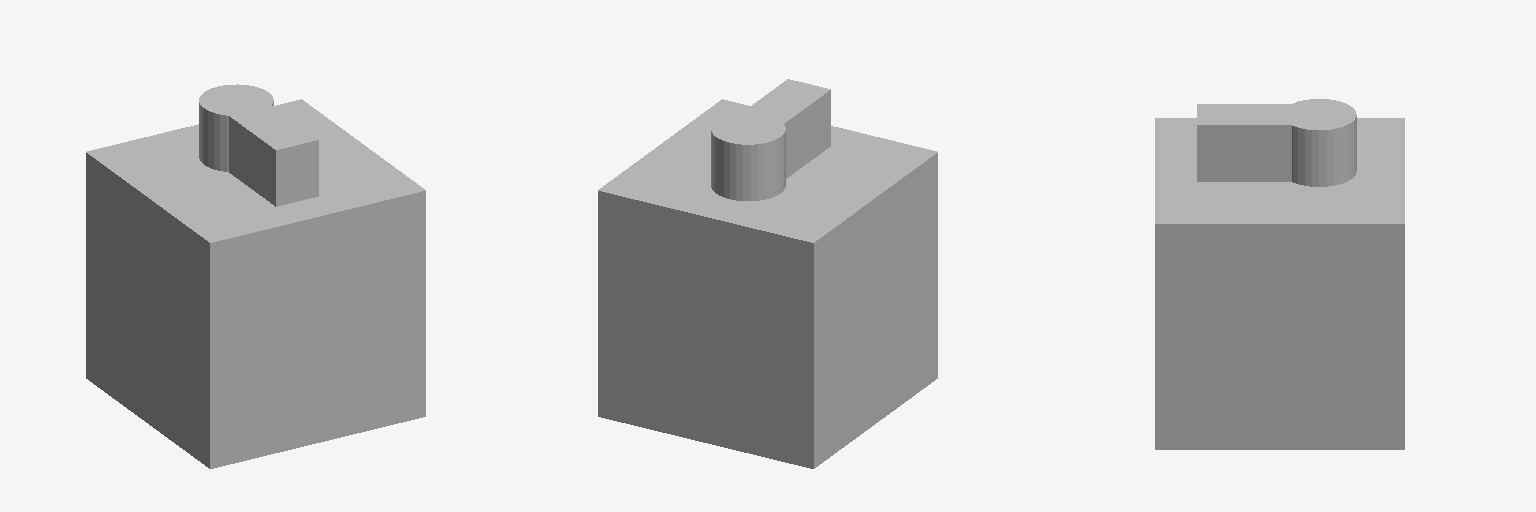
Rendered from Key_cube_cap.obj.
3 views of the same model, side by side, from view 1: azimuth 30°, elevation 25°; view 2: azimuth 150°, elevation 25°; view 3: azimuth 270°, elevation 25° (orthographic).
Parts seen in each view (by area): view 1: Cap_Cube.004; view 2: Cap_Cube.004; view 3: Cap_Cube.004.
Part boxes in pixels (x1,y1,x2,y2): Cap_Cube.004: (86,84,425,468); Cap_Cube.004: (598,79,937,468); Cap_Cube.004: (1155,99,1404,449).
Bounding box in the file's own units: 0.08 × 0.1 × 0.08.